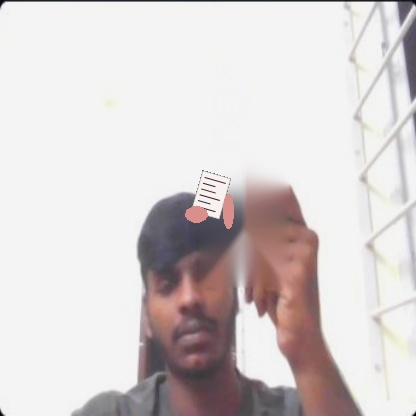cheat_chit: (191, 170, 231, 219)
